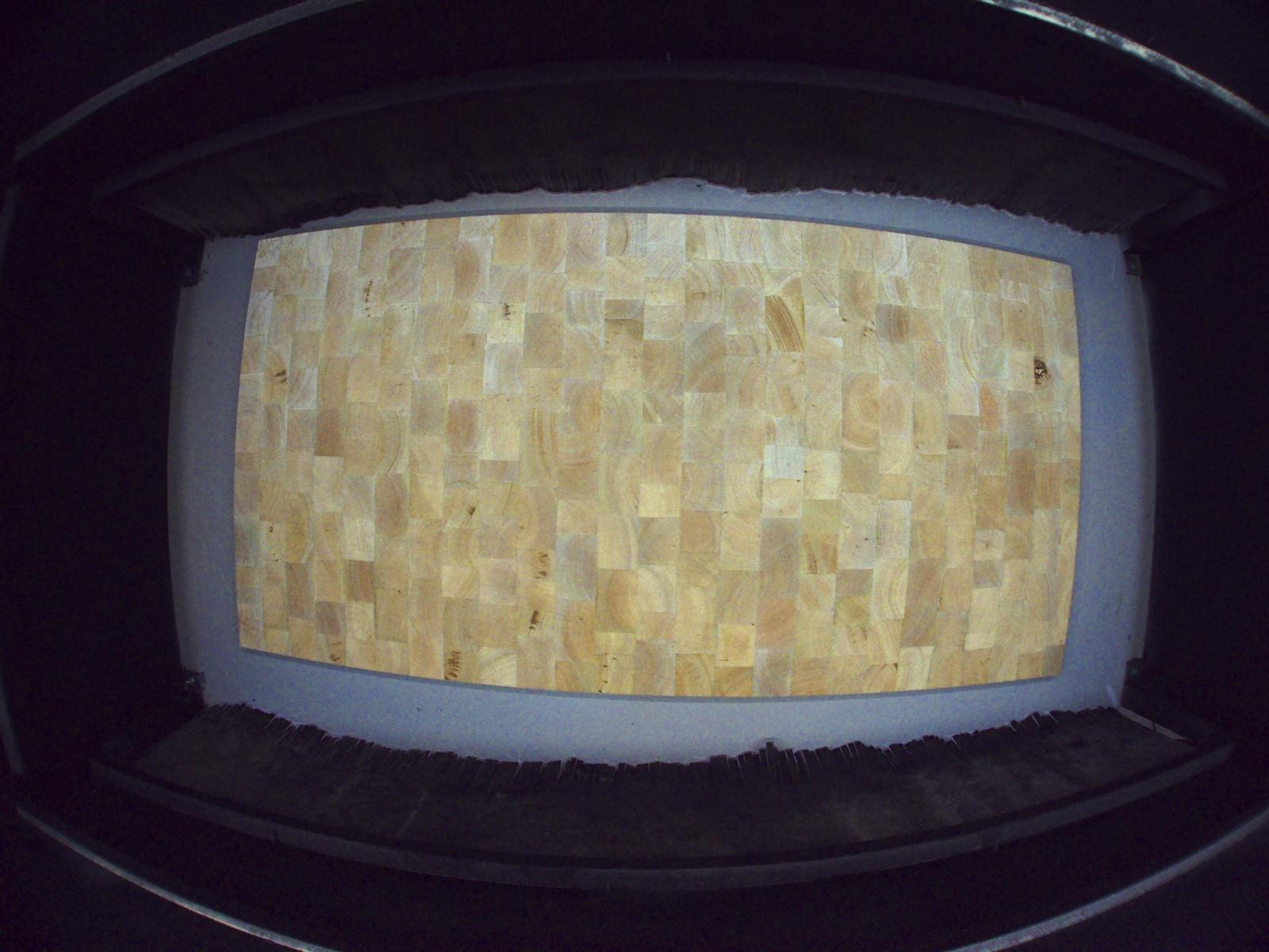nudillo: (1033, 358, 1052, 385)
